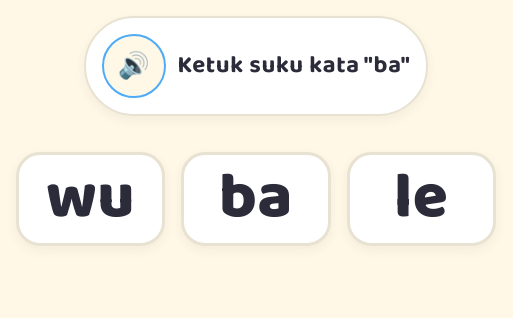
Scenario: ListenTap Activity Component › completes syllable selection when child taps correct syllable card
This screenshot has width=513, height=318.
Click the button with aria-label "suku kata ba" at (256, 199), box 181,152 -> 331,246
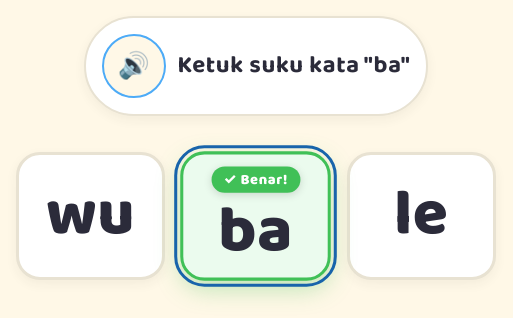
Result: the text "✓ Benar!" is shown at 212,166 -> 300,193
